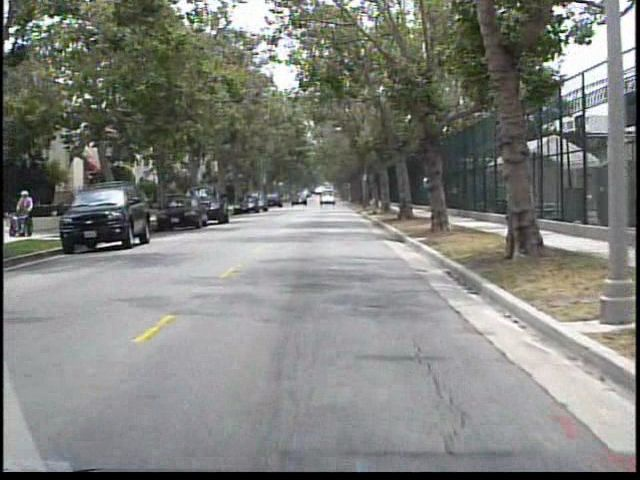person: (18, 186, 38, 237)
